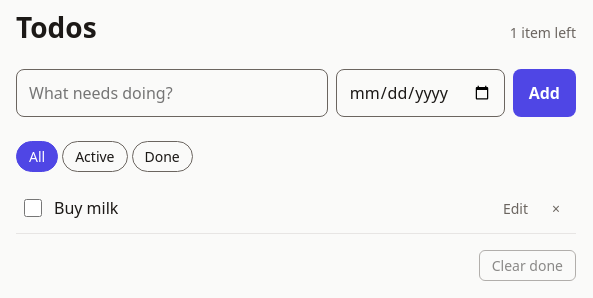
Test: App › deletes a todo after the API succeeds
The image size is (593, 298).
Click the button named "Delete Buy milk". click: (556,208)
box: [544,196,568,221]
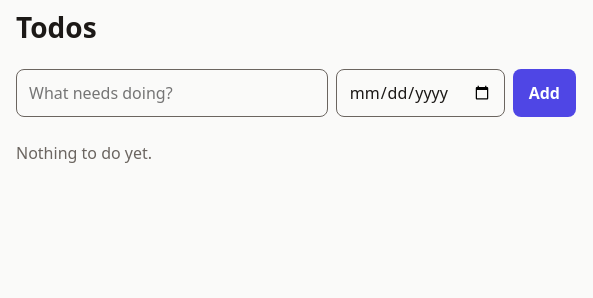
Expected: the text "Buy milk" is gone
